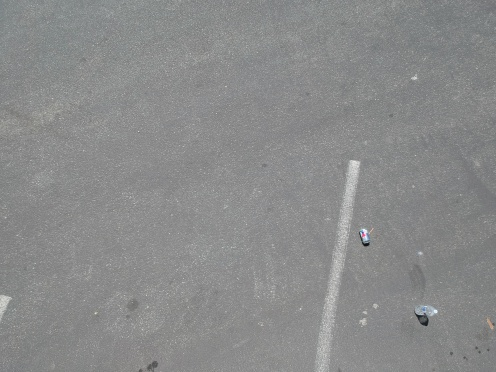bottle: (412, 301, 442, 319)
can: (357, 224, 374, 247)
